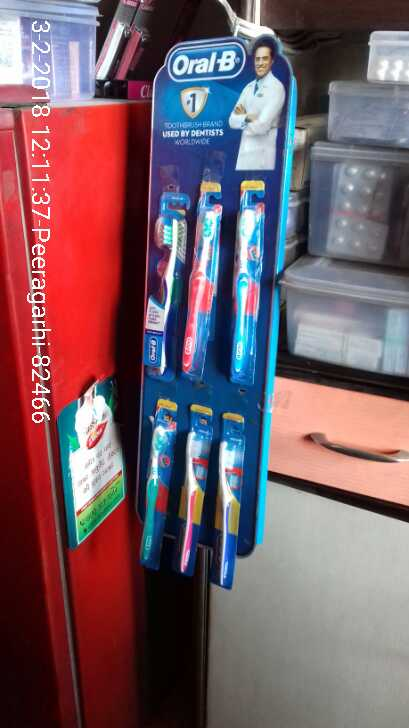oralb: (182, 178, 219, 386), (229, 178, 265, 384), (146, 192, 181, 382), (140, 397, 175, 571), (209, 413, 243, 589), (176, 403, 209, 578)
